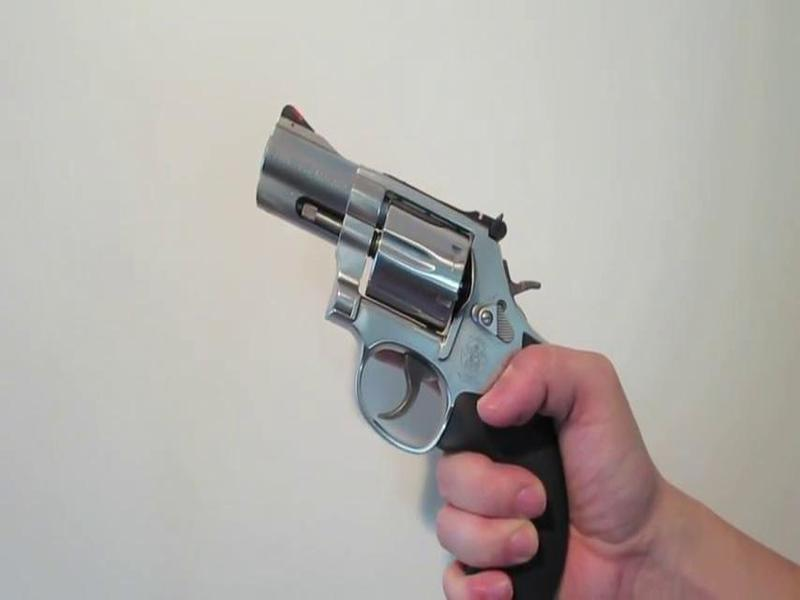Revolver: (238, 103, 594, 596)
